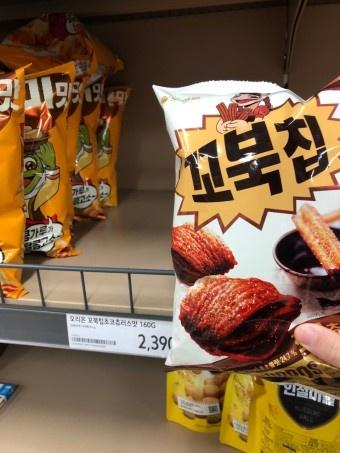snack: (150, 77, 340, 385)
